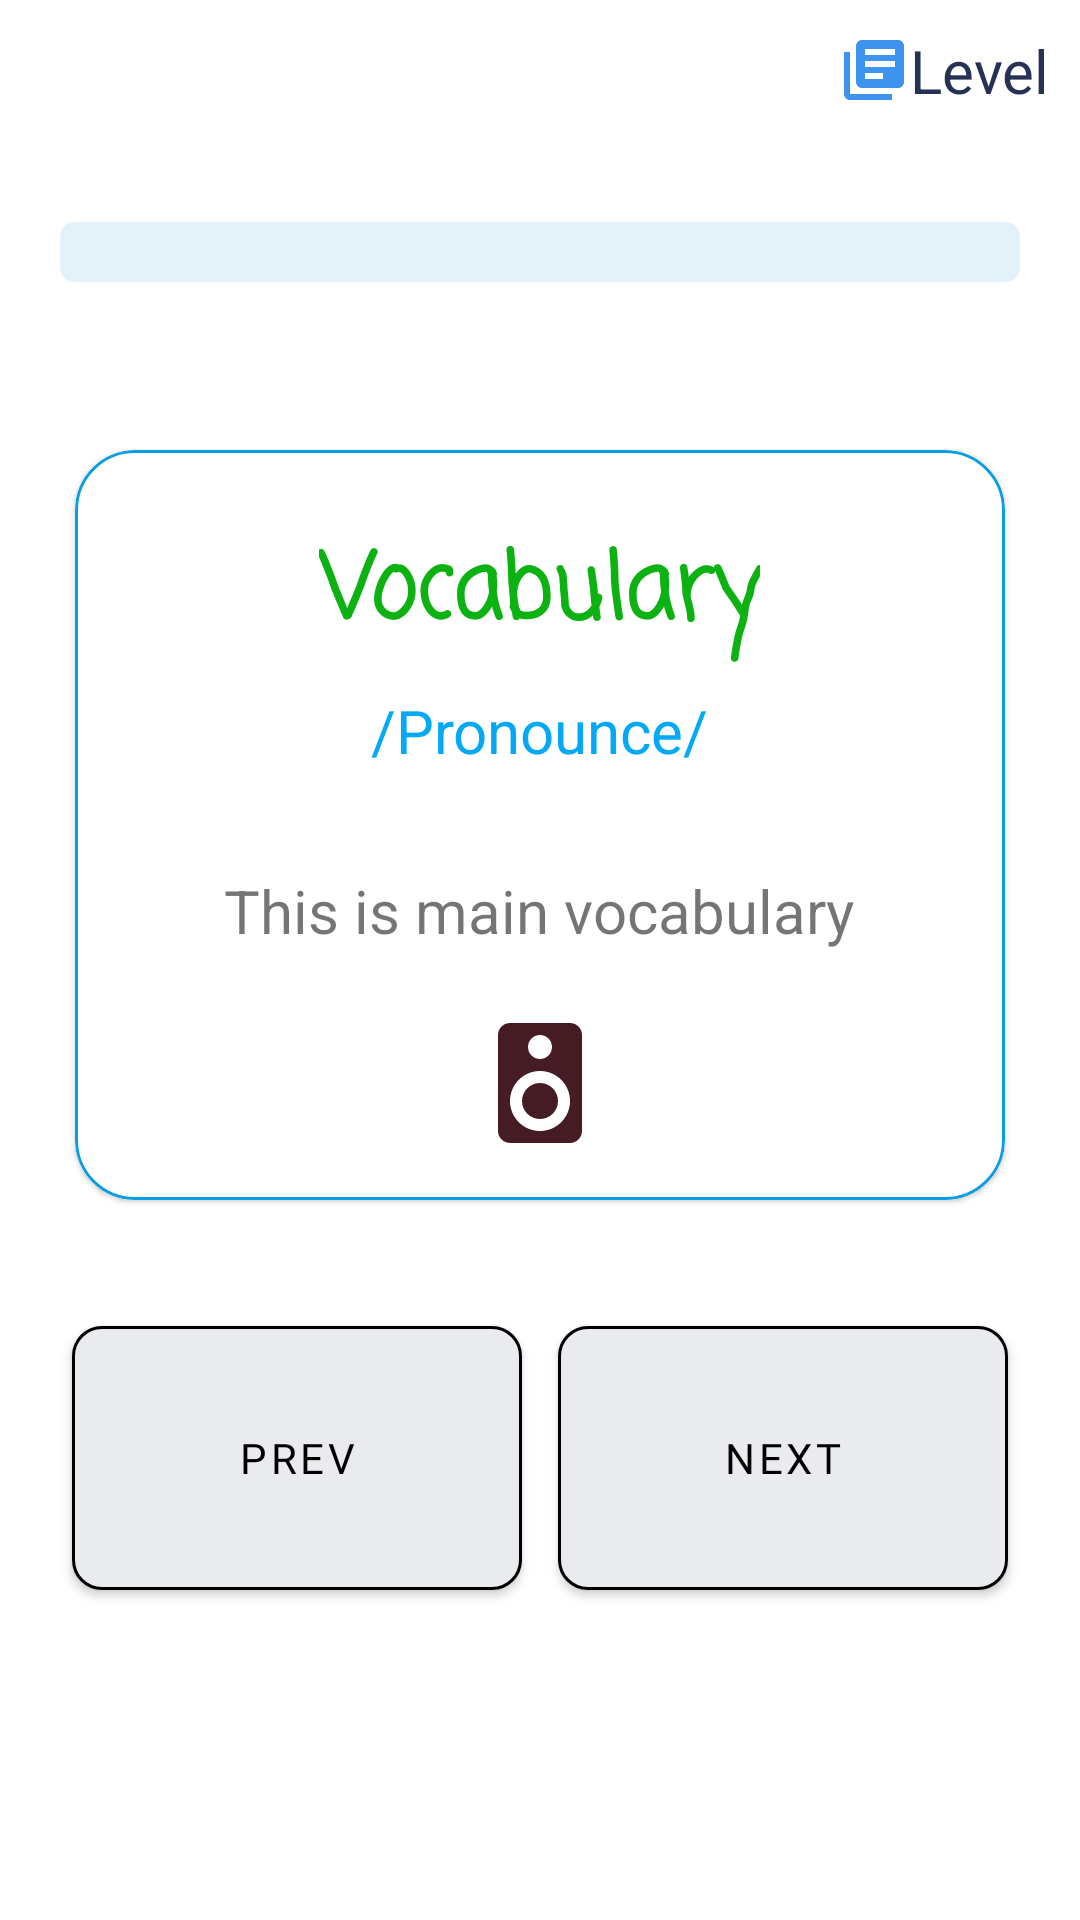

Icon bounding boxes for this 1080*1920 phone screenshot, format (x1, y1, x2, y2):
speaker: (498, 1023, 582, 1143)
